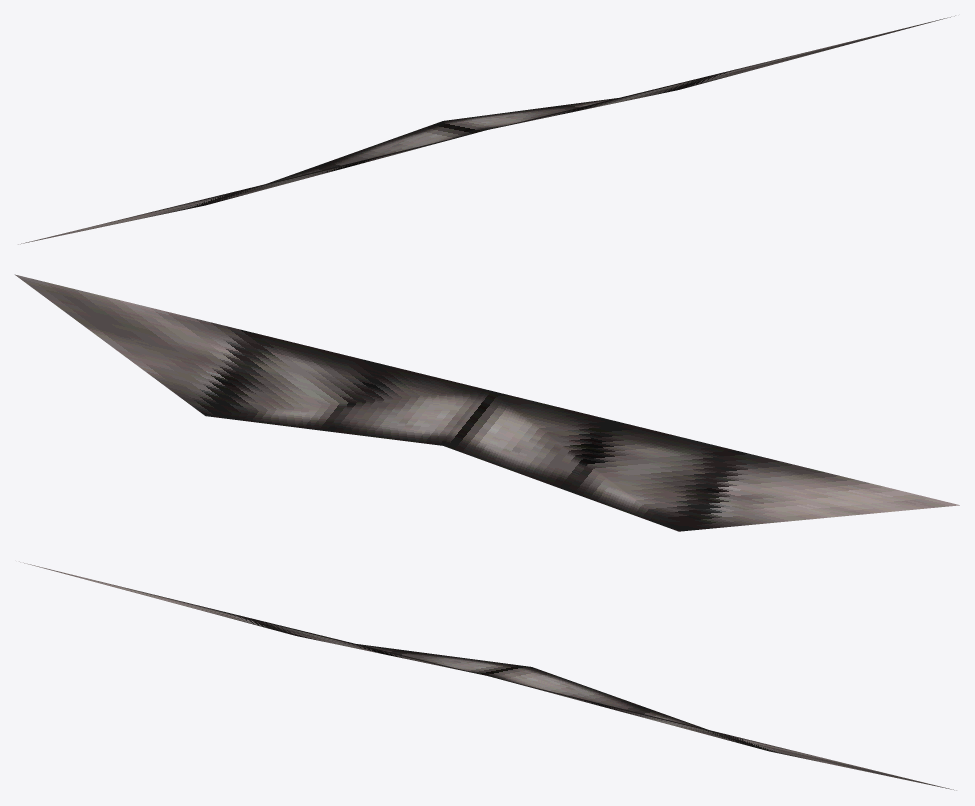
The model's file is Randstein_Flach_1631.glb.
The picture shows the model from 3 angles, top to bottom: view 1: azimuth 30°, elevation 25°; view 2: azimuth 150°, elevation 25°; view 3: azimuth 330°, elevation 25°; orthographic projection.
Visible parts, largest first — view 1: pPlaneShape172; view 2: pPlaneShape172; view 3: pPlaneShape172.
Part boxes in pixels (x1,y1,x2,y2): pPlaneShape172: (18,15,955,244); pPlaneShape172: (14,274,959,531); pPlaneShape172: (19,561,956,790).
Bounding box in the file's own units: 1 × 0.0514 × 0.0829.
Materials: 1 (1 with a texture image).
